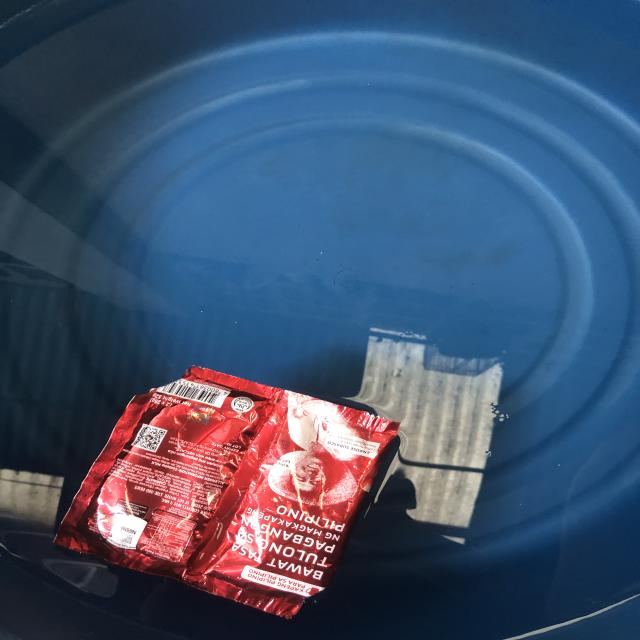Plastic Wrapper: (47, 366, 402, 620)
